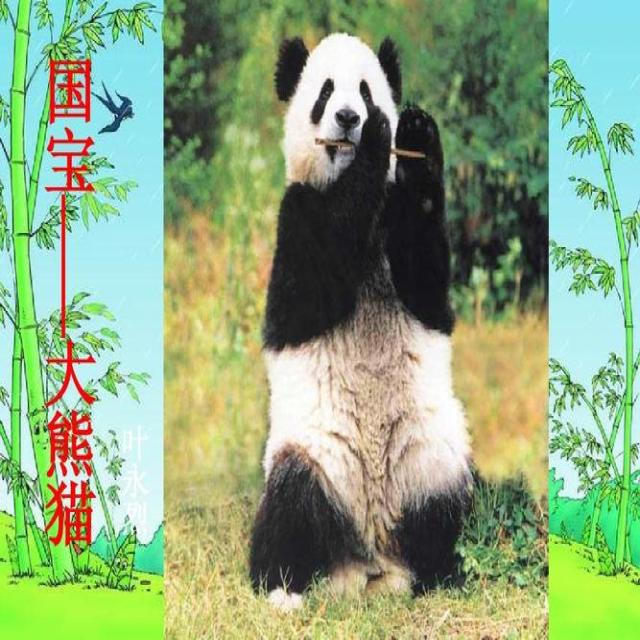panda: (250, 22, 464, 600)
